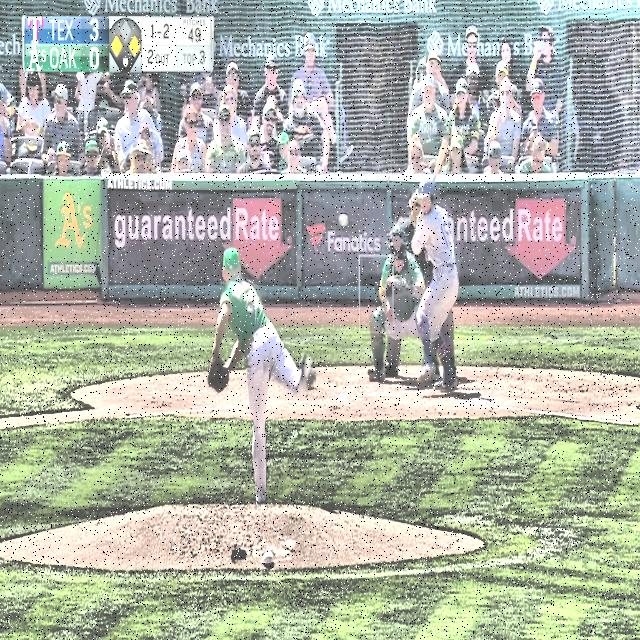baseball: (338, 212, 348, 228)
